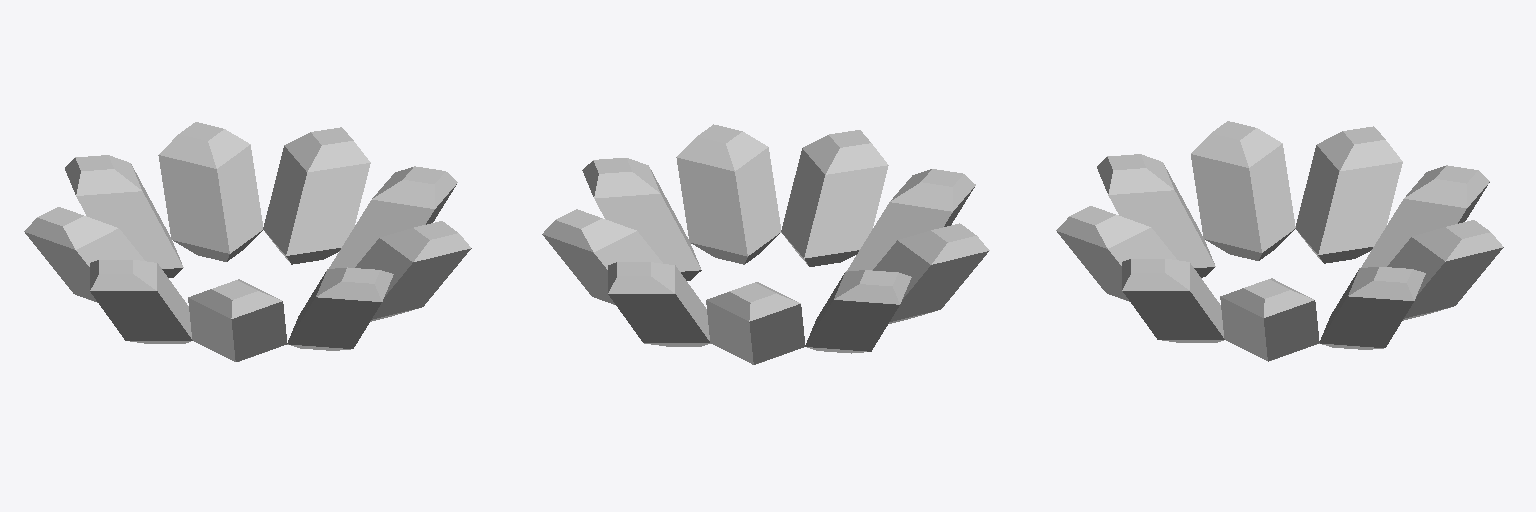
The model's file is pedestal_arms.obj.
3 views of the same model, side by side, from view 1: azimuth 30°, elevation 25°; view 2: azimuth 150°, elevation 25°; view 3: azimuth 270°, elevation 25° (orthographic).
Parts seen in each view (by area): view 1: Cube; view 2: Cube; view 3: Cube.
Part boxes in pixels (bbox=[...]): Cube: bbox=[24, 122, 471, 361]; Cube: bbox=[542, 124, 989, 364]; Cube: bbox=[1056, 121, 1503, 361].
Bounding box in the file's own units: 2.65 × 0.6 × 2.65.